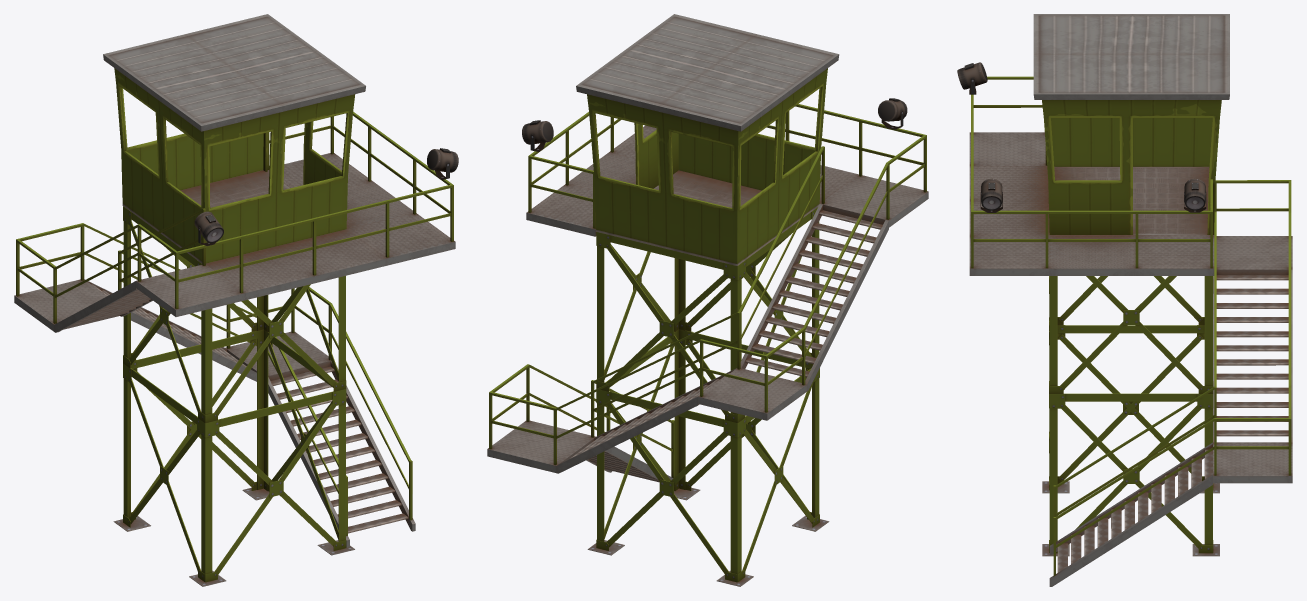
File: WatchTower01.FBX
3 renders of one model, left to right at view 1: azimuth 30°, elevation 25°; view 2: azimuth 150°, elevation 25°; view 3: azimuth 270°, elevation 25°, orthographic.
Parts seen in each view (by area): view 1: WatchTower01; view 2: WatchTower01; view 3: WatchTower01.
Boxes of the visible parts, x1,y1,x2,y2 form: WatchTower01: [14, 14, 458, 586]; WatchTower01: [487, 14, 928, 586]; WatchTower01: [957, 14, 1292, 586].
Size of what is drawn, in the model's own units: 5.64 by 8.62 by 5.63.
